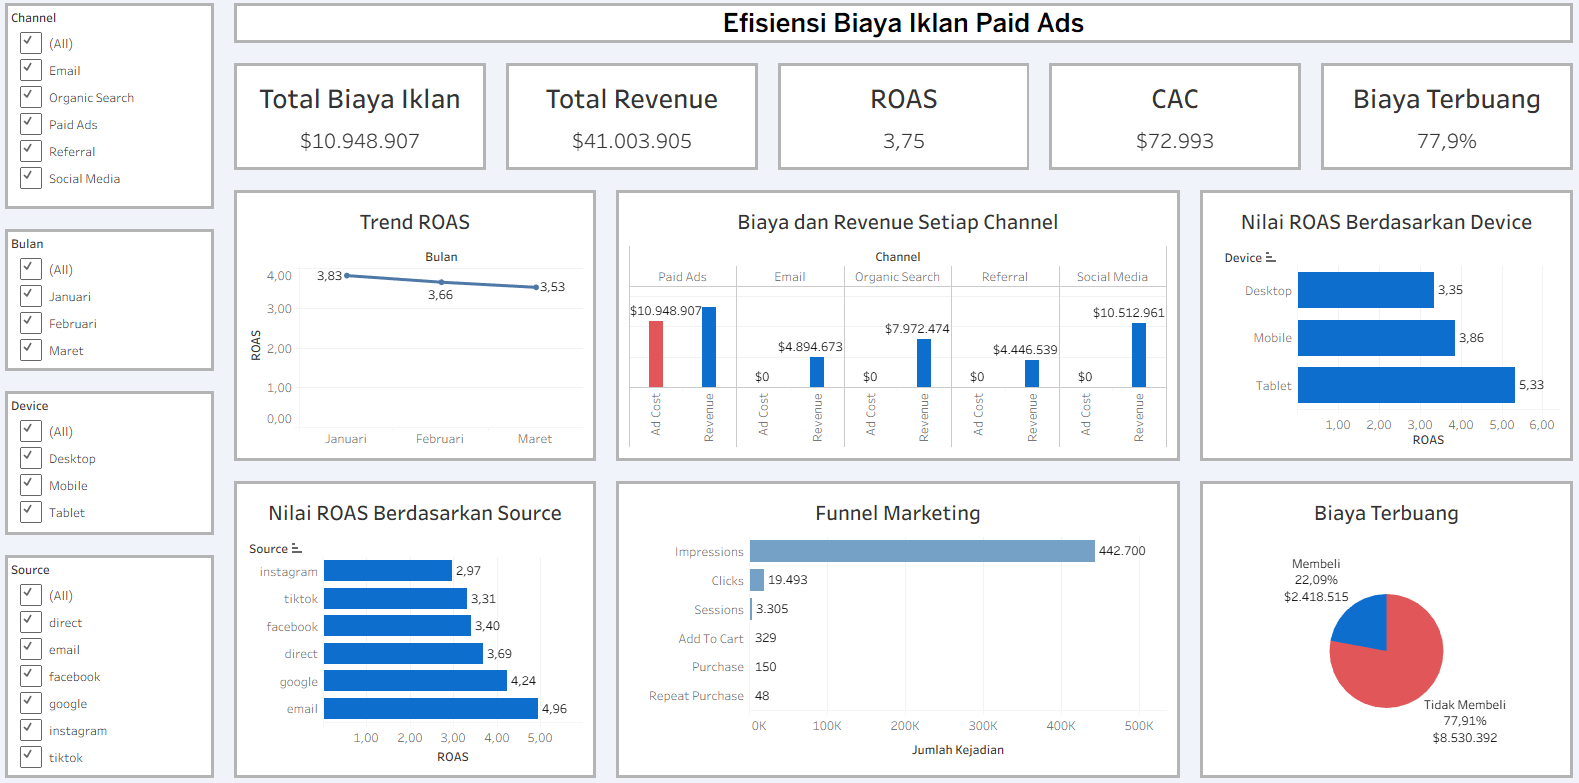

The page's visual inventory and layout, read from the dashboard file:
{"tool":"tableau","page":{"name":"Dashboard 1","canvas":[1000,1000],"units":"permille","ordinal":0},"visuals":[{"type":"filter","title":"roas trend","param":"[federated.0sgkw8b1cmj7ql15d3vbl109cccm].[none:channel:nk]","box":[5,9.9,142.9,274.2]},{"type":"text","box":[147.9,9.9,847.1,68.7]},{"type":"worksheet","title":"ad cost","mark":"Automatic","box":[147.9,78.7,169.4,157.1]},{"type":"worksheet","title":"rev","mark":"Automatic","box":[317.3,78.7,169.4,157.1]},{"type":"worksheet","title":"roas","mark":"Automatic","box":[486.7,78.7,169.4,157.1]},{"type":"worksheet","title":"cac","mark":"Automatic","box":[656.1,78.7,169.4,157.1]},{"type":"worksheet","title":"cost waste","mark":"Automatic","box":[825.6,78.7,169.4,157.1]},{"type":"worksheet","title":"roas trend","mark":"Line","rows":["Calculation_1006382470791168"],"cols":["Bulan"],"box":[147.9,235.7,238.1,361.3]},{"type":"worksheet","title":"roas channel","mark":"Automatic","cols":["channel"],"box":[385.9,235.7,364.1,361.3]},{"type":"worksheet","title":"roas device","mark":"Bar","rows":["device"],"cols":["Calculation_1006382470791168"],"box":[750,235.7,245,361.3]},{"type":"filter","title":"roas trend","param":"[federated.0sgkw8b1cmj7ql15d3vbl109cccm].[none:Bulan:ok]","box":[5,284.1,142.9,201]},{"type":"filter","title":"roas device","param":"[federated.0sgkw8b1cmj7ql15d3vbl109cccm].[none:device:nk]","box":[5,485.1,142.9,203.5]},{"type":"worksheet","title":"roas source","mark":"Bar","rows":["source"],"cols":["Calculation_1006382470791168"],"box":[147.9,597,238.1,393.1]},{"type":"worksheet","title":"funnel","mark":"Automatic","box":[385.9,597,364.1,393.1]},{"type":"worksheet","title":"waste","mark":"Pie","box":[750,597,245,393.1]},{"type":"filter","title":"ad cost","param":"[federated.0sgkw8b1cmj7ql15d3vbl109cccm].[none:source:nk]","box":[5,688.6,142.9,301.5]}]}

Visuals, with their boxes on the dashboard's canvas, which has no fixed pixel size, in thousandths of its width and height (x1, y1, x2, y2). These are canvas units, not pixel positions in the 1579x783 screenshot, which may show the page scaled, cropped or inside an application window:
"roas trend" filter: bbox=[5, 10, 148, 284]
text: bbox=[148, 10, 995, 79]
"ad cost" worksheet: bbox=[148, 79, 317, 236]
"rev" worksheet: bbox=[317, 79, 487, 236]
"roas" worksheet: bbox=[487, 79, 656, 236]
"cac" worksheet: bbox=[656, 79, 826, 236]
"cost waste" worksheet: bbox=[826, 79, 995, 236]
"roas trend" worksheet (Line marks): bbox=[148, 236, 386, 597]
"roas channel" worksheet: bbox=[386, 236, 750, 597]
"roas device" worksheet (Bar marks): bbox=[750, 236, 995, 597]
"roas trend" filter: bbox=[5, 284, 148, 485]
"roas device" filter: bbox=[5, 485, 148, 689]
"roas source" worksheet (Bar marks): bbox=[148, 597, 386, 990]
"funnel" worksheet: bbox=[386, 597, 750, 990]
"waste" worksheet (Pie marks): bbox=[750, 597, 995, 990]
"ad cost" filter: bbox=[5, 689, 148, 990]
